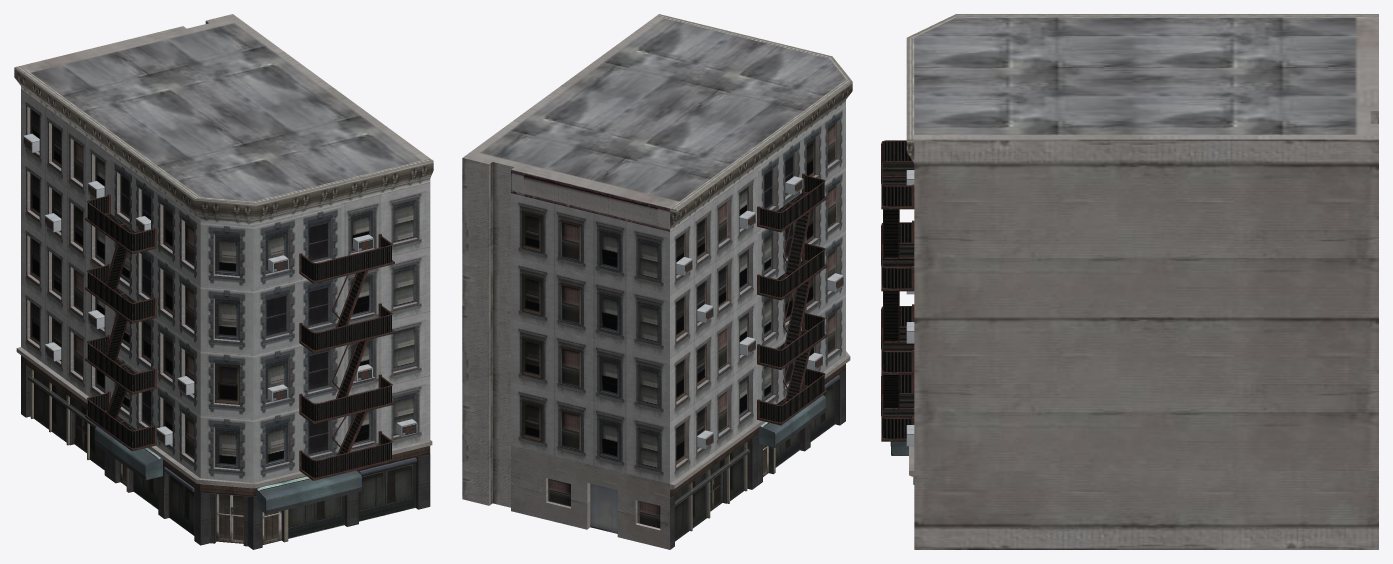
File: building-sample-tower-a.glb
The picture shows the model from 3 angles, left to right: view 1: azimuth 30°, elevation 25°; view 2: azimuth 150°, elevation 25°; view 3: azimuth 270°, elevation 25°; orthographic projection. The views are drawn at different scales.
Visible parts, largest first — view 1: building-sample-tower-a.001; view 2: building-sample-tower-a.001; view 3: building-sample-tower-a.001.
Boxes of the visible parts, x1,y1,x2,y2 form: building-sample-tower-a.001: (14,14,433,549); building-sample-tower-a.001: (462,14,852,549); building-sample-tower-a.001: (881,14,1378,549).
Size of the model in its own units: 1.1 by 1.55 by 1.7.
3 materials, 3 textured.
